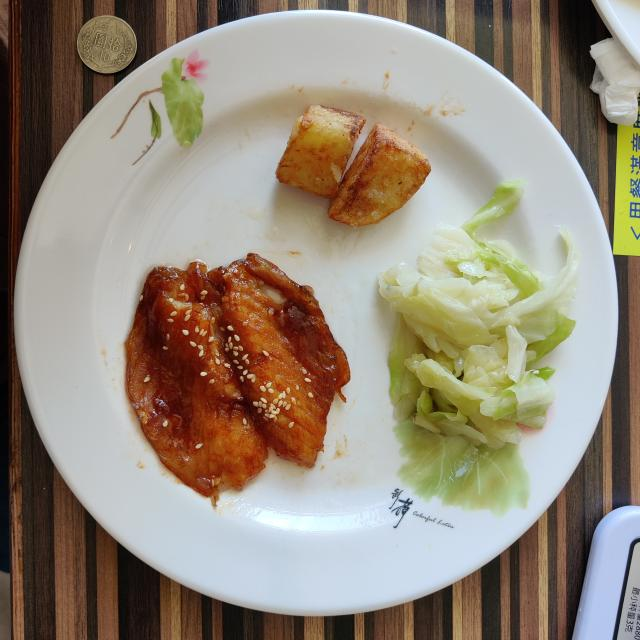Kabayaki sea bream fillet: (125, 254, 350, 505)
cabbage: (379, 181, 579, 449)
coin: (78, 15, 136, 74)
fried potato: (276, 105, 431, 228)
